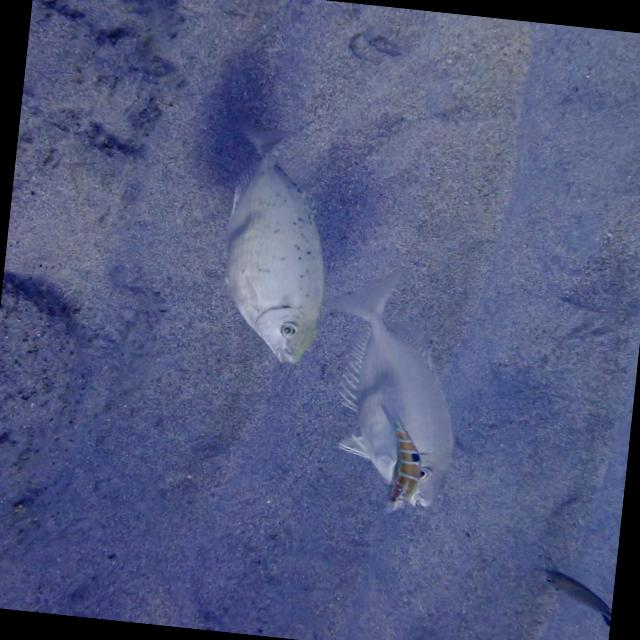Sokar Baligi: (185, 106, 352, 374)
